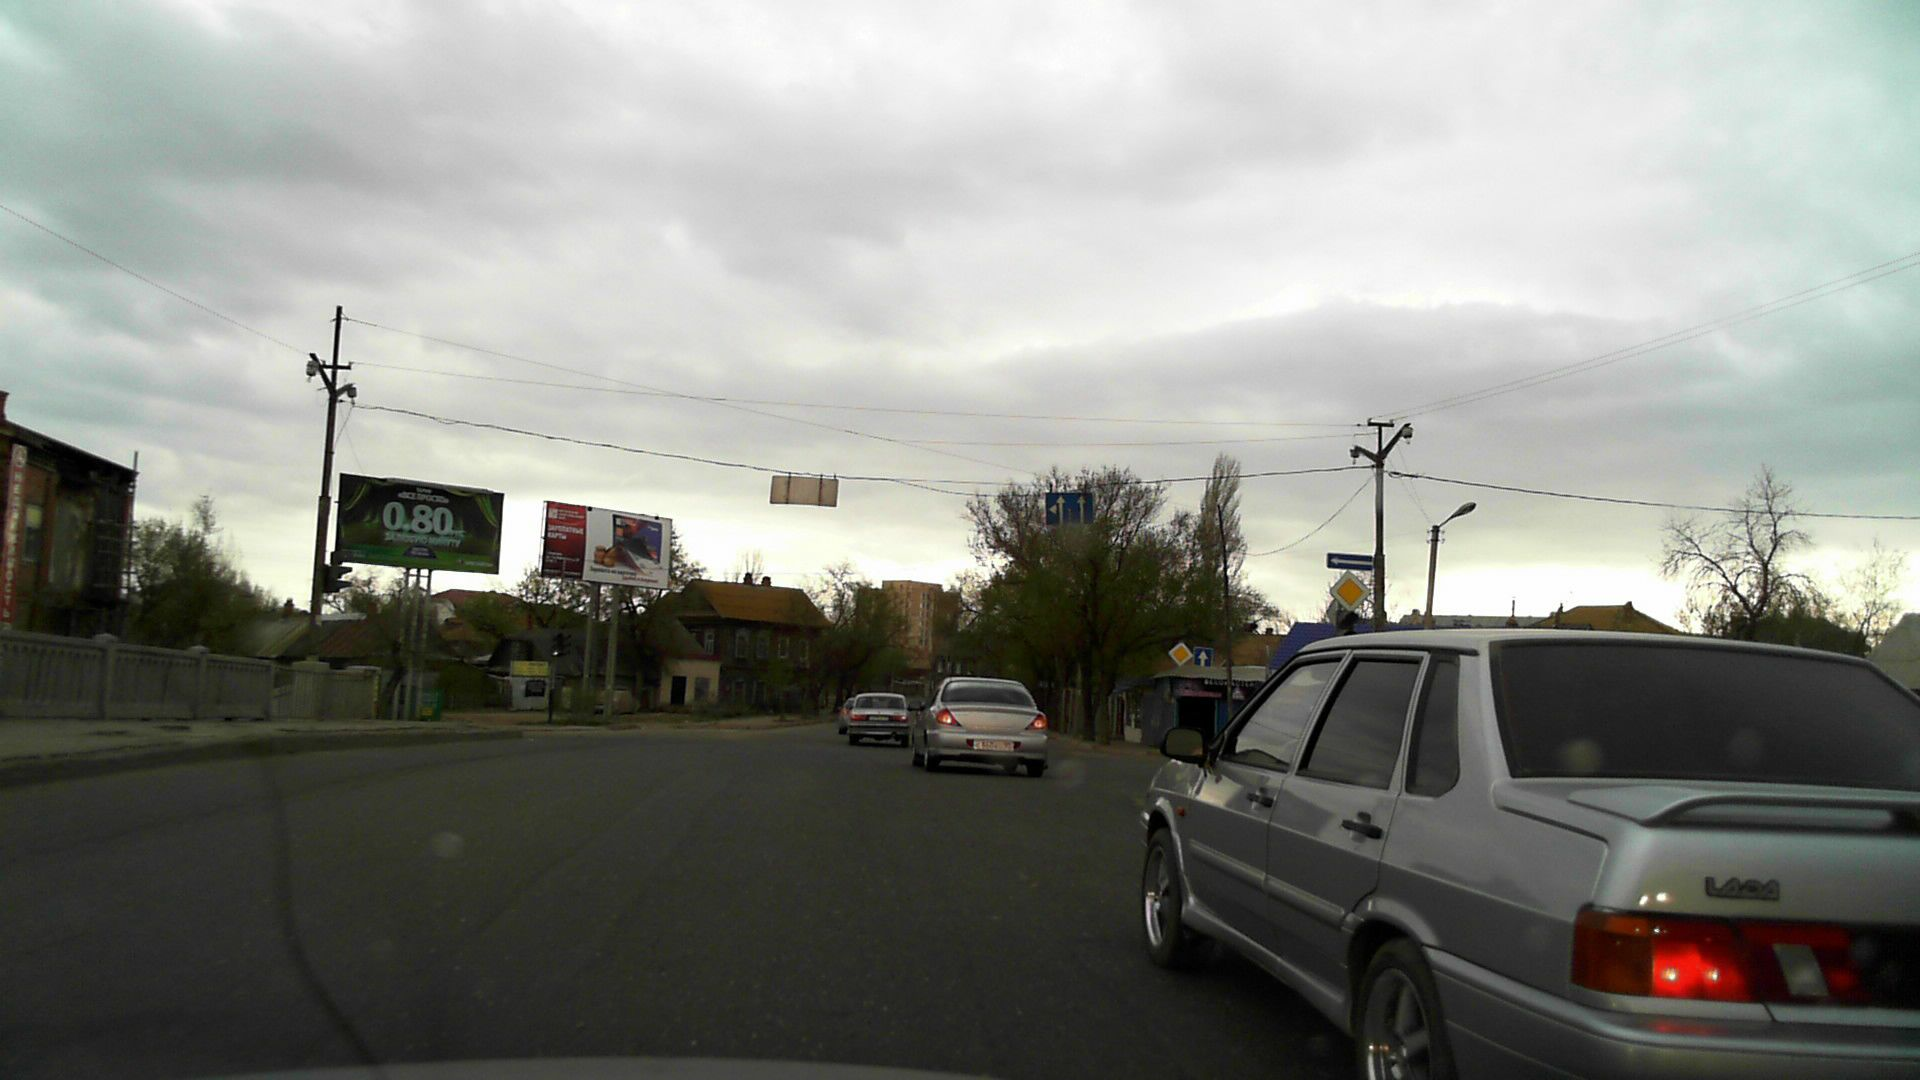One-Way Traffic: (1327, 553, 1374, 570)
